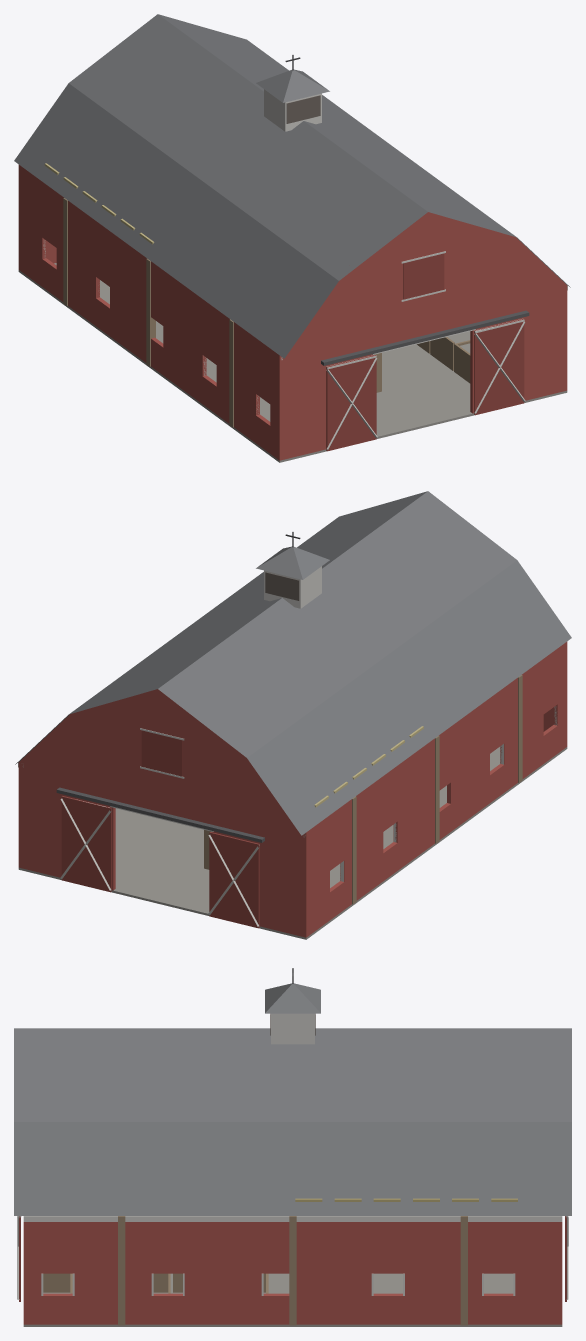
The model's file is barn.glb.
3 renders of one model, top to bottom at view 1: azimuth 30°, elevation 25°; view 2: azimuth 150°, elevation 25°; view 3: azimuth 270°, elevation 25°, orthographic. The views are drawn at different scales.
Parts seen in each view (by area): view 1: barn; view 2: barn; view 3: barn.
Part boxes in pixels (<box>): barn: <box>14,14,570,462</box>; barn: <box>15,491,571,939</box>; barn: <box>14,968,571,1326</box>.
Size of the model in its own units: 14.1 by 12.9 by 22.8.
